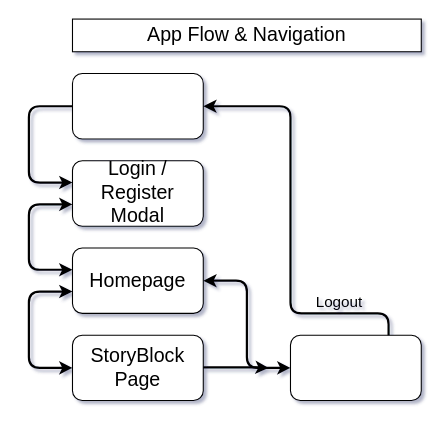
This 447x426 diagram has some shape labels left out. The centre of each missing label's shape, as x and y in pixels:
Titlepage: point 137,105
User Account: point 355,367
